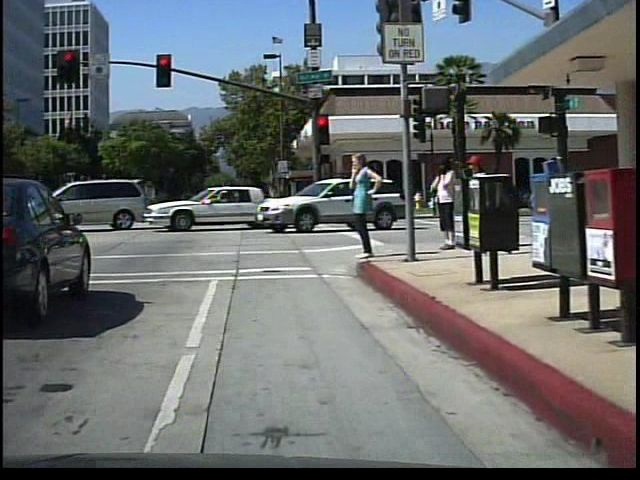person: (345, 147, 383, 265), (456, 146, 492, 252), (430, 149, 463, 251)
